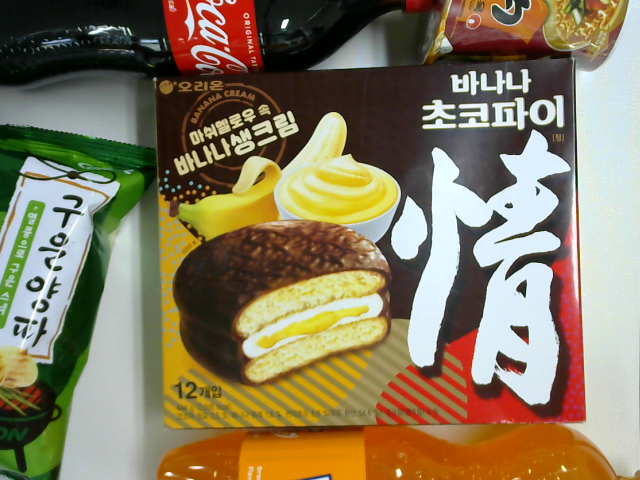Choco_Pie_Banana: (152, 56, 586, 431)
Coca_Cola_1.5L: (3, 1, 432, 97)
Grilled_Onions: (1, 126, 157, 480)
Hwanta_Orange_1.5L: (155, 416, 640, 479)
Raccoon: (416, 1, 629, 68)
